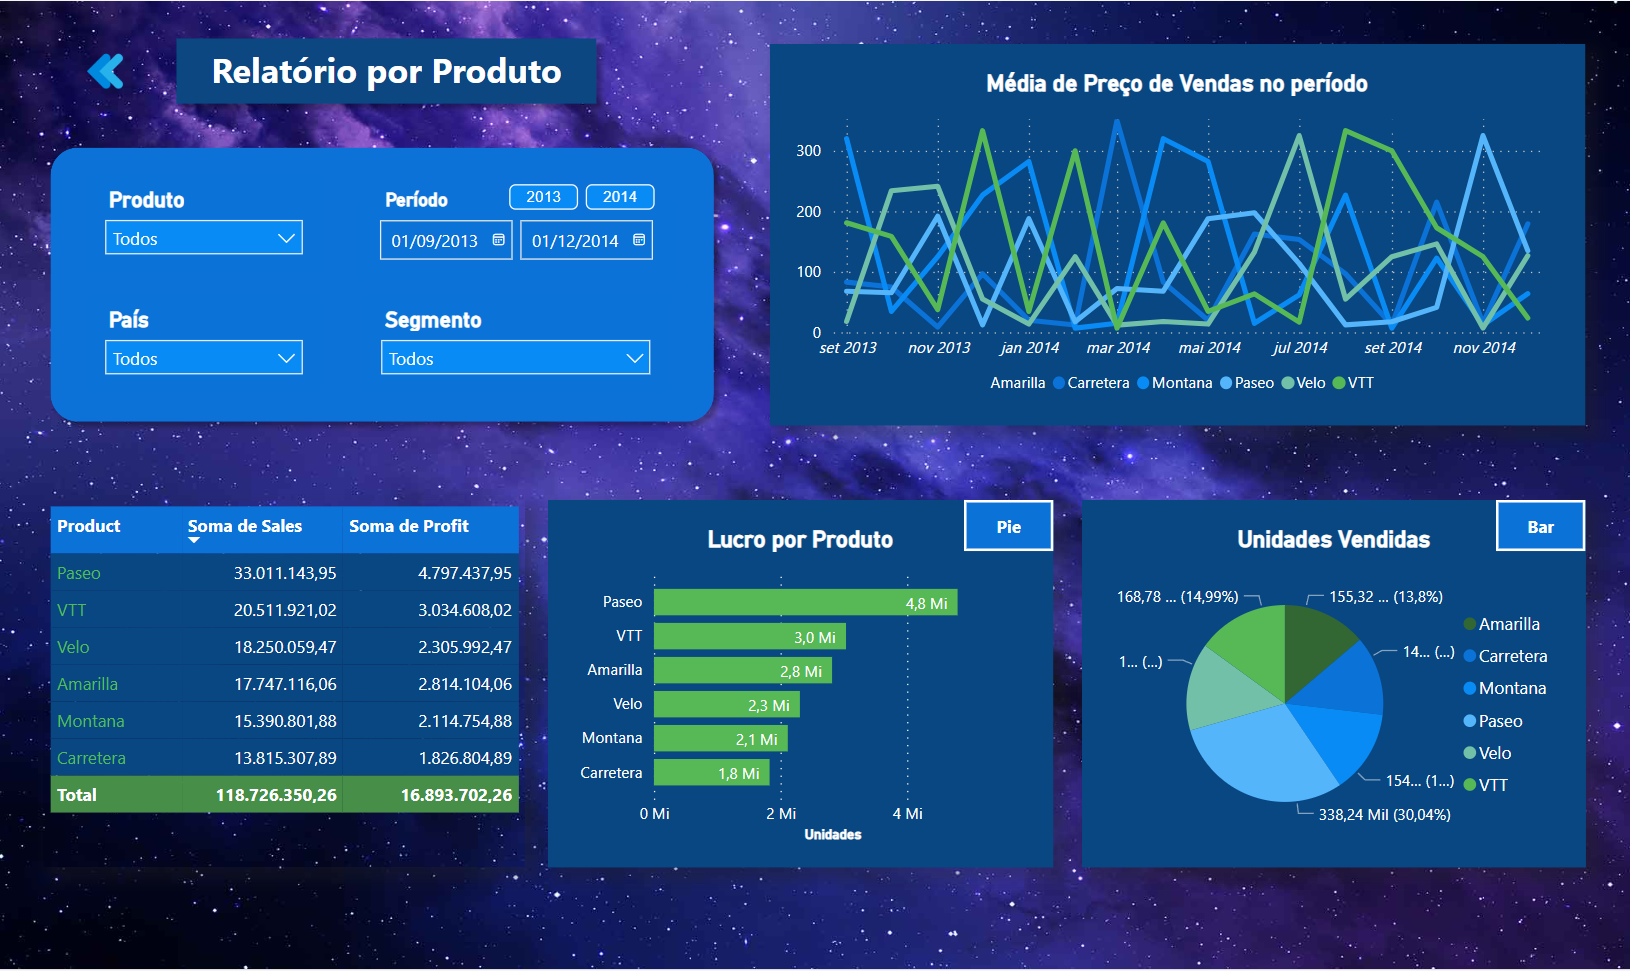

The page's visual inventory and layout, read from the dashboard file:
{"tool":"powerbi","page":{"name":"Por Produto","canvas":[1280,720],"ordinal":1},"visuals":[{"type":"lineChart","title":"Média de Preço de Vendas no período","fields":{"Y":["Avg(financials.Sale Price)"],"Series":["financials.Product"],"Category":["financials.Date.Variation.Hierarquia de datas.Ano","financials.Date.Variation.Hierarquia de datas.Trimestre","financials.Date.Variation.Hierarquia de datas.Mês","financials.Date.Variation.Hierarquia de datas.Dia"]},"box":[605,33.6,638.5,299],"z":0},{"type":"clusteredBarChart","title":"Lucro por Produto","fields":{"Y":["Sum(financials.Profit)"],"Category":["financials.Product"]},"box":[431.3,390.8,395.7,288.2],"z":0,"group":"g2"},{"type":"tableEx","fields":{"Values":["financials.Product","Sum(financials. Sales)","Sum(financials.Profit)"]},"box":[35.5,390.8,378,288.2],"z":1000},{"type":"pieChart","title":"Unidades Vendidas","fields":{"Category":["financials.Product"],"Y":["Sum(financials.Units Sold)"]},"box":[849,391,395,288],"z":1000,"group":"g1"},{"type":"shape","box":[32,106,538,233],"z":2000},{"type":"actionButton","title":"Botão Bar Unidades Vendidas","box":[1174,391,70,40],"z":2000,"group":"g1"},{"type":"slicer","fields":{"Values":["financials.Product"]},"box":[68.6,135.5,184.5,78],"z":3000},{"type":"actionButton","title":"Botão Pie Lucro por produto","box":[757,391,70,40],"z":3000,"group":"g2"},{"type":"slicer","fields":{"Values":["financials.Segment"]},"box":[285,230,241.4,77.9],"z":4000},{"type":"slicer","fields":{"Values":["financials.Date"]},"box":[281.7,156.7,250,62.5],"z":5000},{"type":"slicer","fields":{"Values":["financials.Country"]},"box":[69.1,229.9,184.5,78],"z":6000},{"type":"shape","box":[131.3,20.7,347.4,69.1],"z":7000},{"type":"textbox","box":[155.9,30.6,297.1,49.3],"z":8000},{"type":"textbox","box":[298.3,141.7,127.5,32.5],"z":10000},{"type":"ChicletSlicer1448559807354","fields":{"Category":["financials.Date.Variation.Hierarquia de datas.Ano"]},"box":[392.7,135.3,145.3,38],"z":11000},{"type":"group","id":"g1","title":"Unidades Vendidas","box":[847.7,390.8,396.3,288.2],"z":11500},{"type":"group","id":"g2","title":"Lucro por Produto","box":[431,390.8,396,288.2],"z":12000},{"type":"image","box":[35.6,30.6,95.6,49.4],"z":12001}]}

Visuals, with their boxes on the page's 1280x720 design canvas (x1, y1, x2, y2). These are canvas units, not pixel positions in the 1630x971 screenshot, which may show the page scaled, cropped or inside an application window:
"Média de Preço de Vendas no período" lineChart: l=605, t=34, r=1244, b=333
"Lucro por Produto" clusteredBarChart: l=431, t=391, r=827, b=679
tableEx - financials.Product x Sum(financials. Sales): l=36, t=391, r=414, b=679
"Unidades Vendidas" pieChart: l=849, t=391, r=1244, b=679
shape: l=32, t=106, r=570, b=339
"Botão Bar Unidades Vendidas" actionButton: l=1174, t=391, r=1244, b=431
slicer - financials.Product: l=69, t=136, r=253, b=214
"Botão Pie Lucro por produto" actionButton: l=757, t=391, r=827, b=431
slicer - financials.Segment: l=285, t=230, r=526, b=308
slicer - financials.Date: l=282, t=157, r=532, b=219
slicer - financials.Country: l=69, t=230, r=254, b=308
shape: l=131, t=21, r=479, b=90
textbox: l=156, t=31, r=453, b=80
textbox: l=298, t=142, r=426, b=174
ChicletSlicer1448559807354 - financials.Date.Variation.Hierarquia de datas.Ano: l=393, t=135, r=538, b=173
"Unidades Vendidas" group: l=848, t=391, r=1244, b=679
"Lucro por Produto" group: l=431, t=391, r=827, b=679
image: l=36, t=31, r=131, b=80
